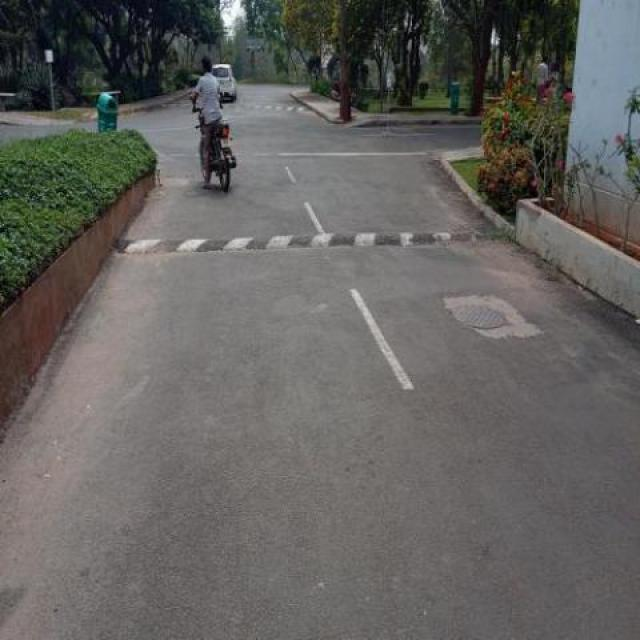Speed Bump: (113, 222, 512, 252)
